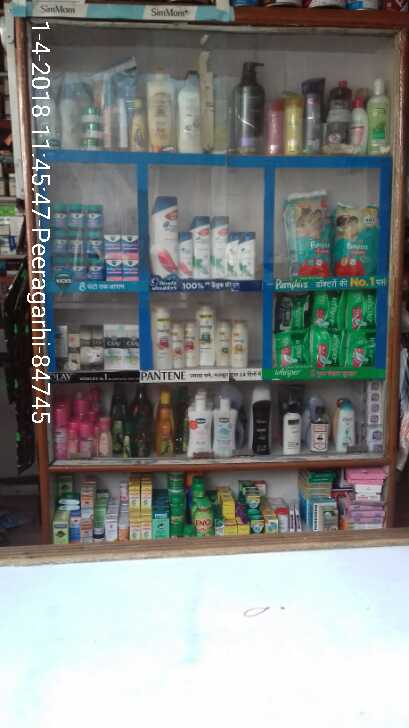vicks: (50, 201, 141, 282)
